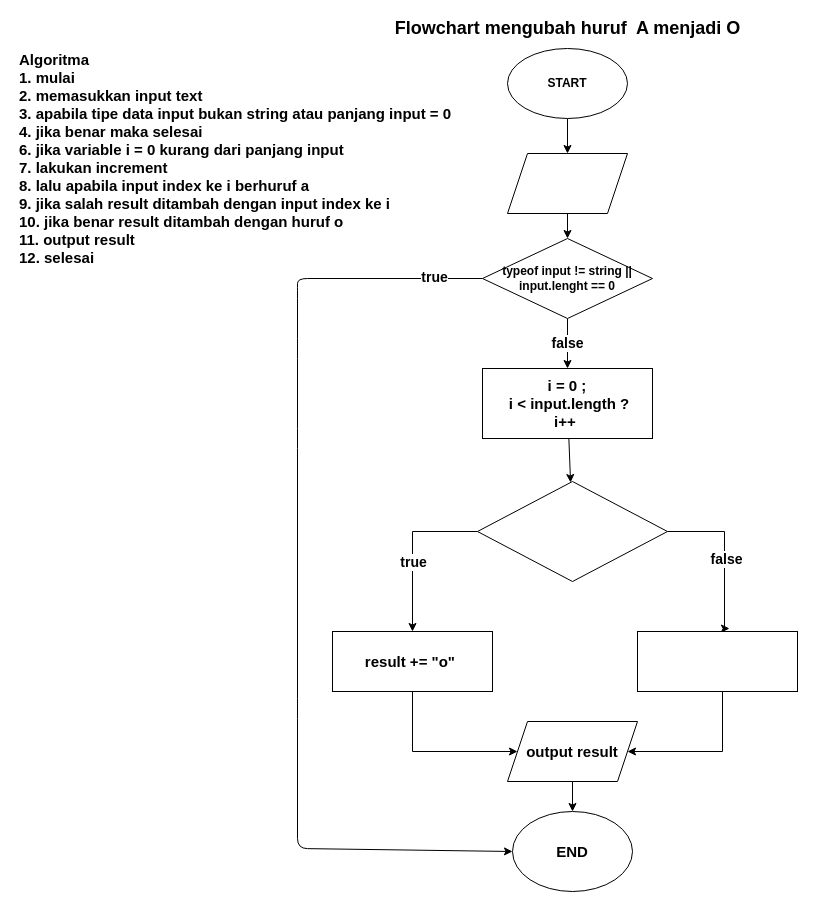
Image size: 815x909. Some labels were removed from this diagram. The centre of each missing label's shape, as x and y in pixels:
if input[i] == "a": pixel 572 531
INPUT TEXT: pixel 567 183
result += input[i]: pixel 717 661
